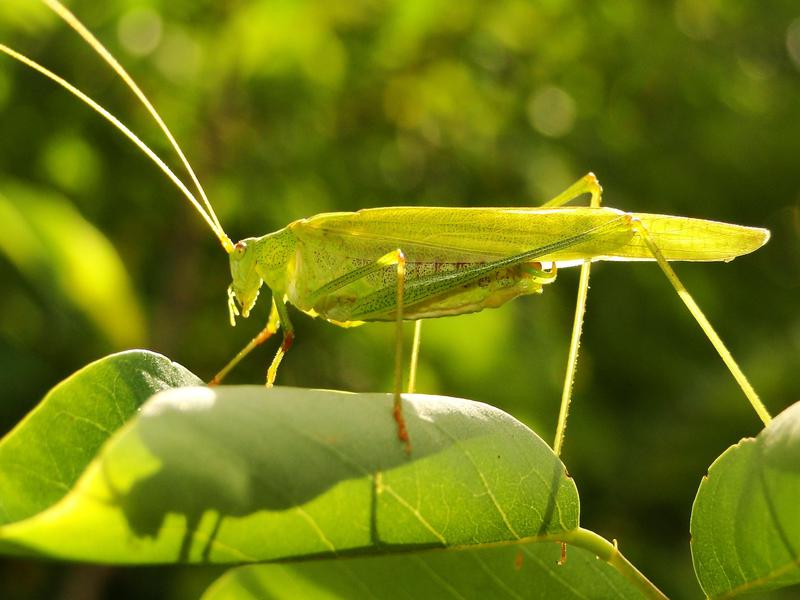Grasshopper: (202, 159, 777, 406)
